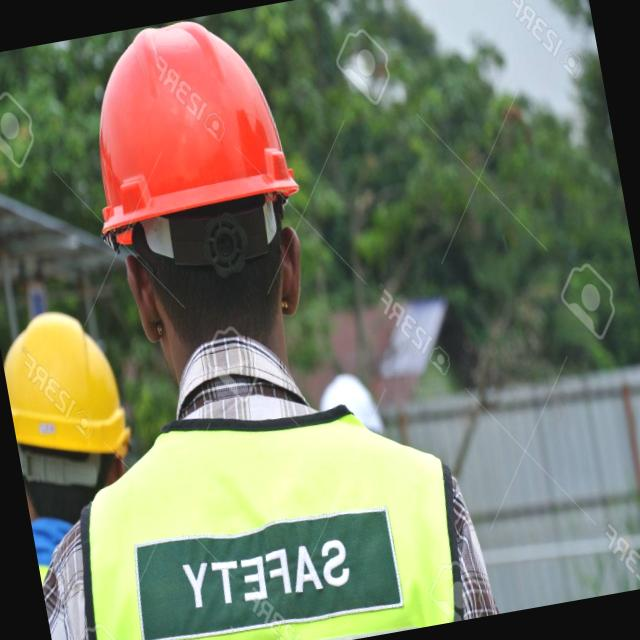helmet: (64, 5, 301, 266), (0, 303, 136, 514)
vest: (73, 346, 466, 640)
